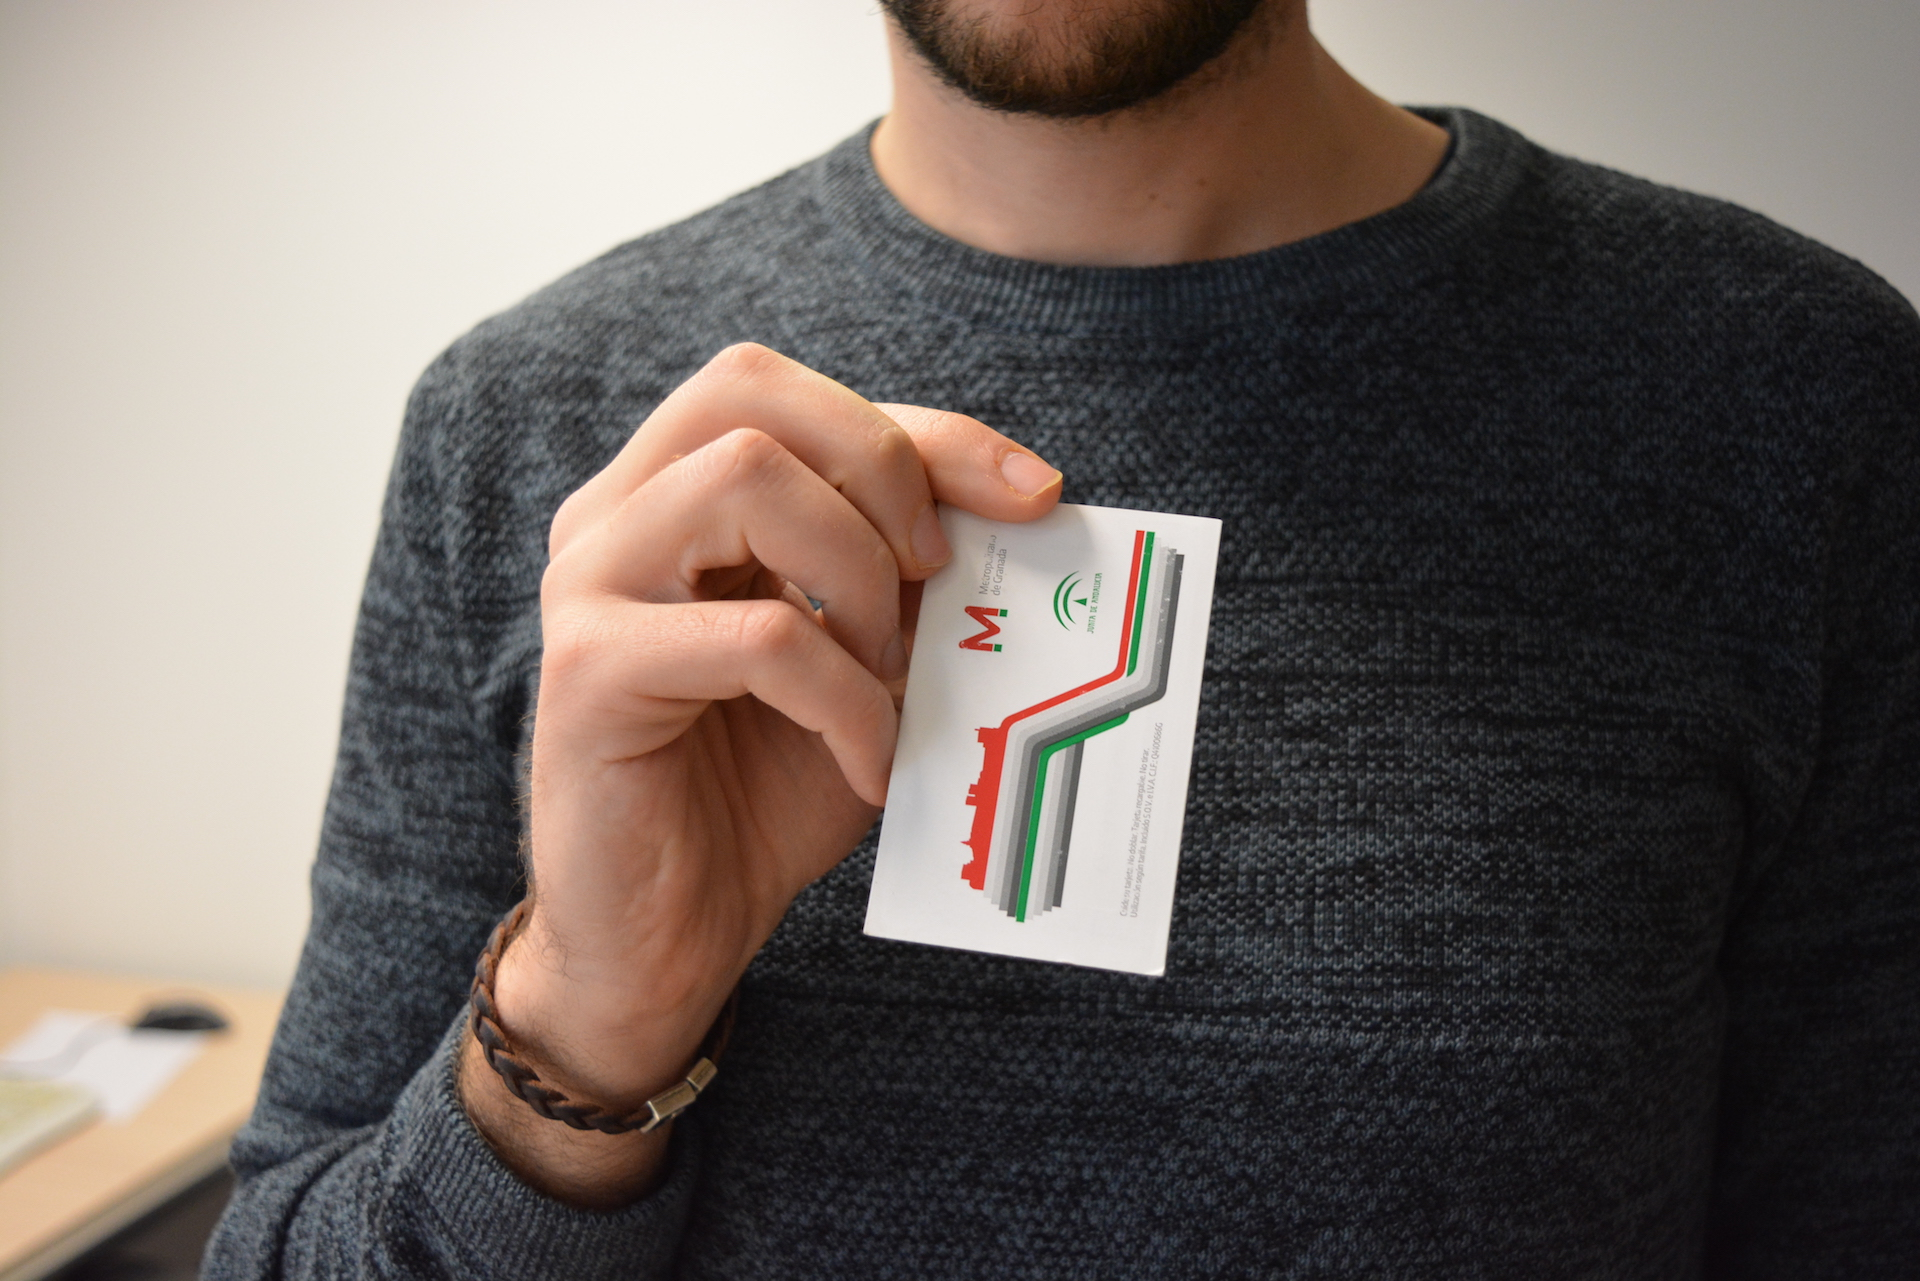tarjeta: (862, 495, 1227, 979)
